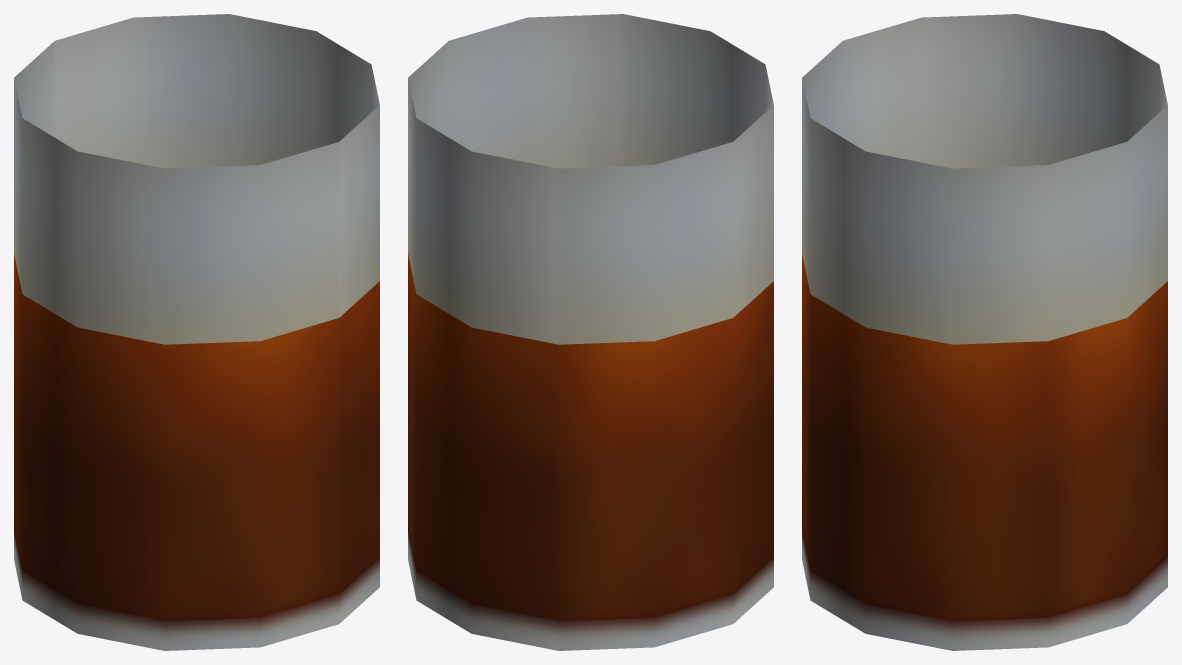
The model's file is Drink4.fbx.
3 views of the same model, side by side, from view 1: azimuth 30°, elevation 25°; view 2: azimuth 150°, elevation 25°; view 3: azimuth 270°, elevation 25° (orthographic).
Visible parts, largest first — view 1: Empty_Mesh; view 2: Empty_Mesh; view 3: Empty_Mesh.
Part boxes in pixels (box(x1,y1,x2,y2)): Empty_Mesh: box(14, 14, 379, 650); Empty_Mesh: box(408, 14, 773, 650); Empty_Mesh: box(802, 14, 1167, 650).
Size of the model in its own units: 6.6 by 9.6 by 6.6.
